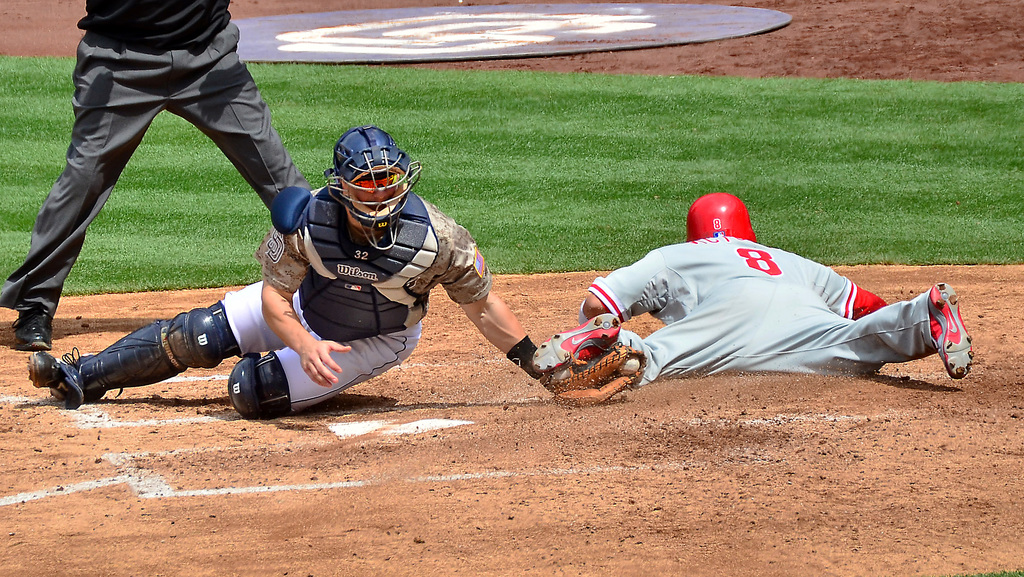Footwear: (526, 312, 621, 377), (931, 283, 976, 382), (26, 350, 83, 387), (11, 313, 53, 350)
